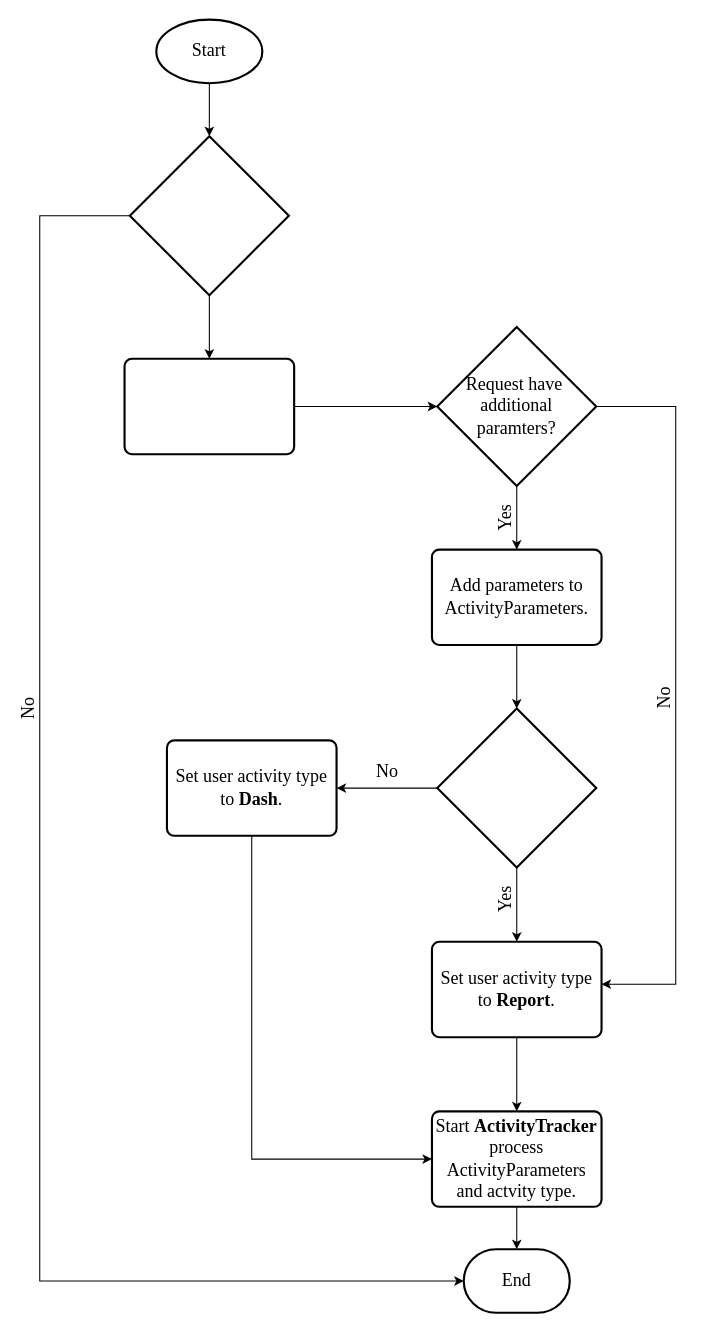
The diagram is 703 pixels wide and 1331 high, and some of its shapes have lost their labels. The centre of each missing label's shape, as x and y in pixels:
Get dashboard ID of the active dashboard: the point at 209,406
Request have an action is Report action type?: the point at 516,787
Request have dashboard ID?: the point at 208,215
